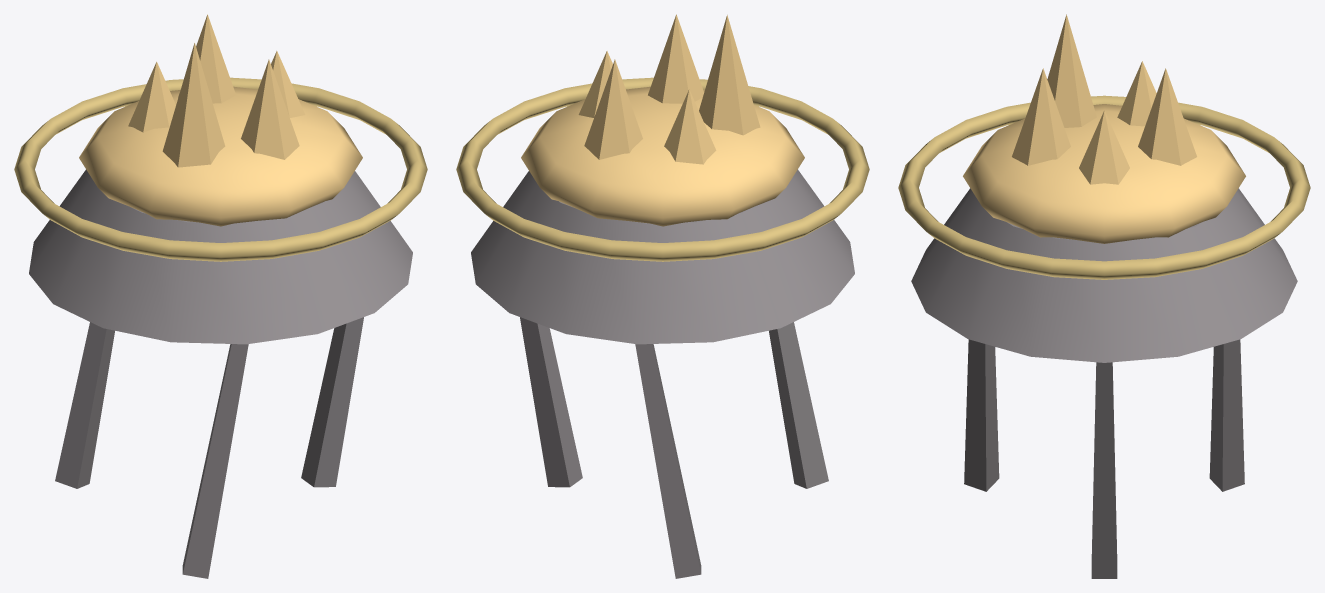
Rendered from brazier.glb.
The picture shows the model from 3 angles, left to right: view 1: azimuth 30°, elevation 25°; view 2: azimuth 150°, elevation 25°; view 3: azimuth 270°, elevation 25°; orthographic projection.
Visible parts, largest first — view 1: iron*1.2, lit, brass, iron.001, iron, iron.002, lit.003, lit.002, lit.004, lit.005, lit.001; view 2: iron*1.2, lit, brass, iron.002, iron, iron.001, lit.003, lit.005, lit.002, lit.004, lit.001; view 3: iron*1.2, lit, brass, iron, iron.001, iron.002, lit.002, lit.005, lit.003, lit.001, lit.004.
Part boxes in pixels (box(x1,y1,x2,y2)): iron*1.2: box(29, 169, 412, 344); lit: box(79, 86, 362, 226); brass: box(14, 77, 427, 261); iron.001: box(182, 344, 248, 578); iron: box(301, 317, 363, 487); iron.002: box(55, 322, 114, 488); lit.003: box(162, 43, 225, 167); lit.002: box(241, 59, 299, 159); lit.004: box(128, 61, 175, 132); lit.005: box(178, 14, 235, 103); lit.001: box(271, 51, 305, 117); iron*1.2: box(471, 169, 854, 344); lit: box(521, 86, 804, 226); brass: box(456, 77, 869, 261); iron.002: box(635, 344, 701, 578); iron: box(520, 317, 582, 487); iron.001: box(769, 322, 828, 488); lit.003: box(699, 15, 760, 135); lit.005: box(584, 59, 642, 159); lit.002: box(648, 14, 703, 103); lit.004: box(664, 89, 716, 164); lit.001: box(578, 51, 612, 117); iron*1.2: box(911, 188, 1297, 362); lit: box(963, 104, 1245, 243); brass: box(898, 95, 1310, 279); iron: box(1091, 362, 1117, 578); iron.001: box(964, 339, 999, 491); iron.002: box(1209, 339, 1244, 491); lit.002: box(1012, 68, 1070, 165); lit.005: box(1138, 68, 1196, 165); lit.003: box(1047, 14, 1096, 127); lit.001: box(1079, 110, 1129, 184); lit.004: box(1117, 61, 1156, 126).
Bounding box in the file's own units: 1.6 × 2.1 × 1.6.
